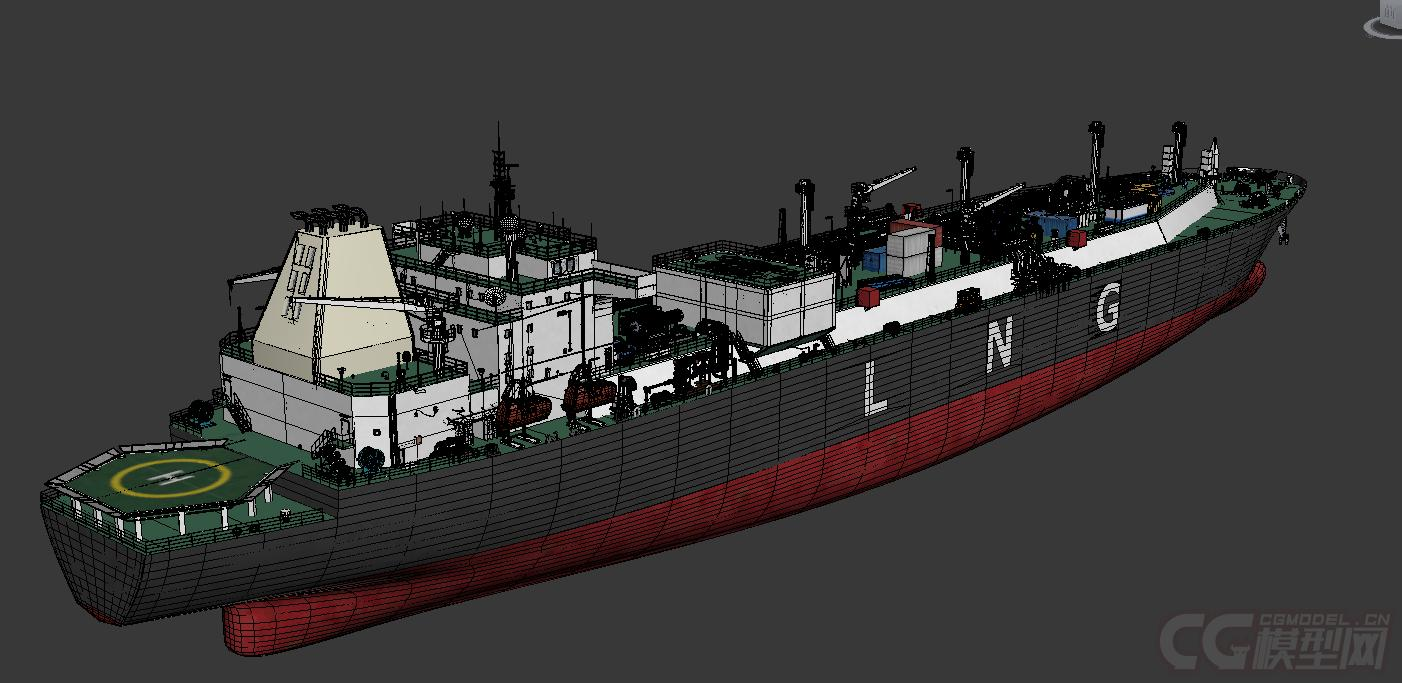Cargoship: (40, 108, 1311, 661)
